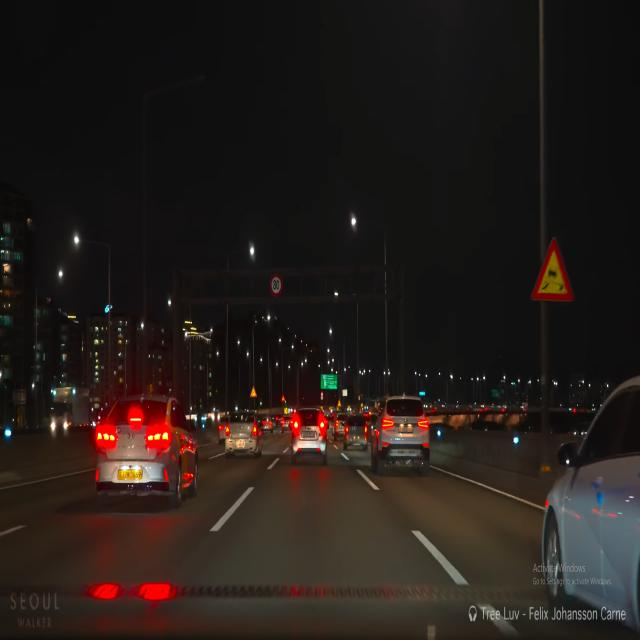headlights: (47, 410, 72, 436)
